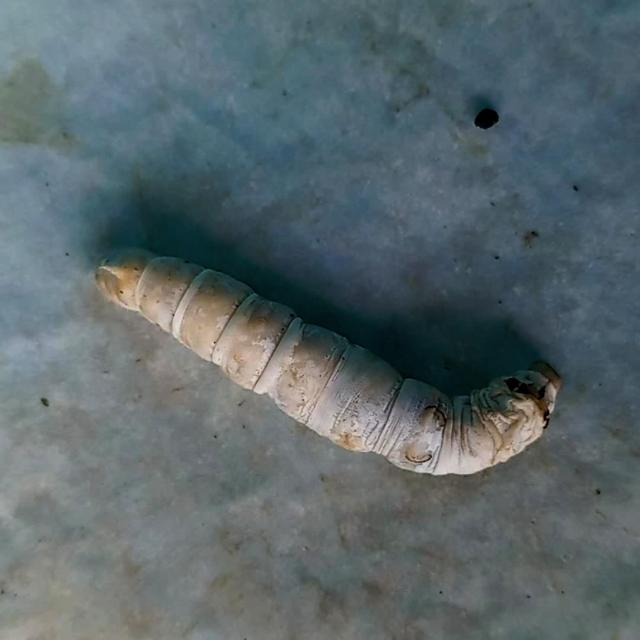Grasserie: (52, 214, 586, 532)
